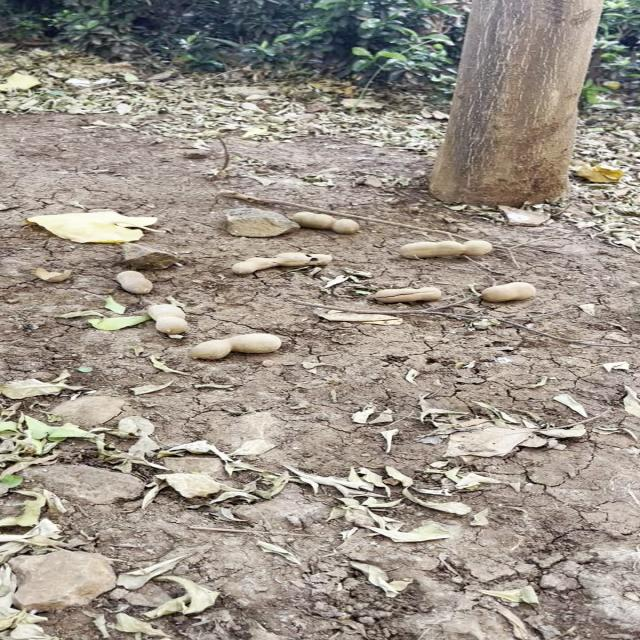tamarind: (232, 252, 333, 276), (394, 238, 498, 259), (185, 338, 285, 358), (147, 301, 197, 335), (285, 212, 369, 231), (477, 281, 535, 305), (369, 286, 443, 303), (110, 270, 158, 294)
